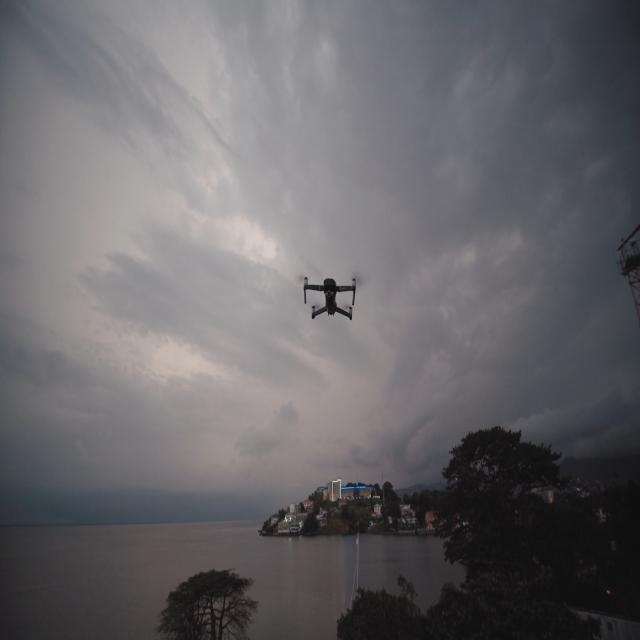drone: (303, 275, 356, 321)
